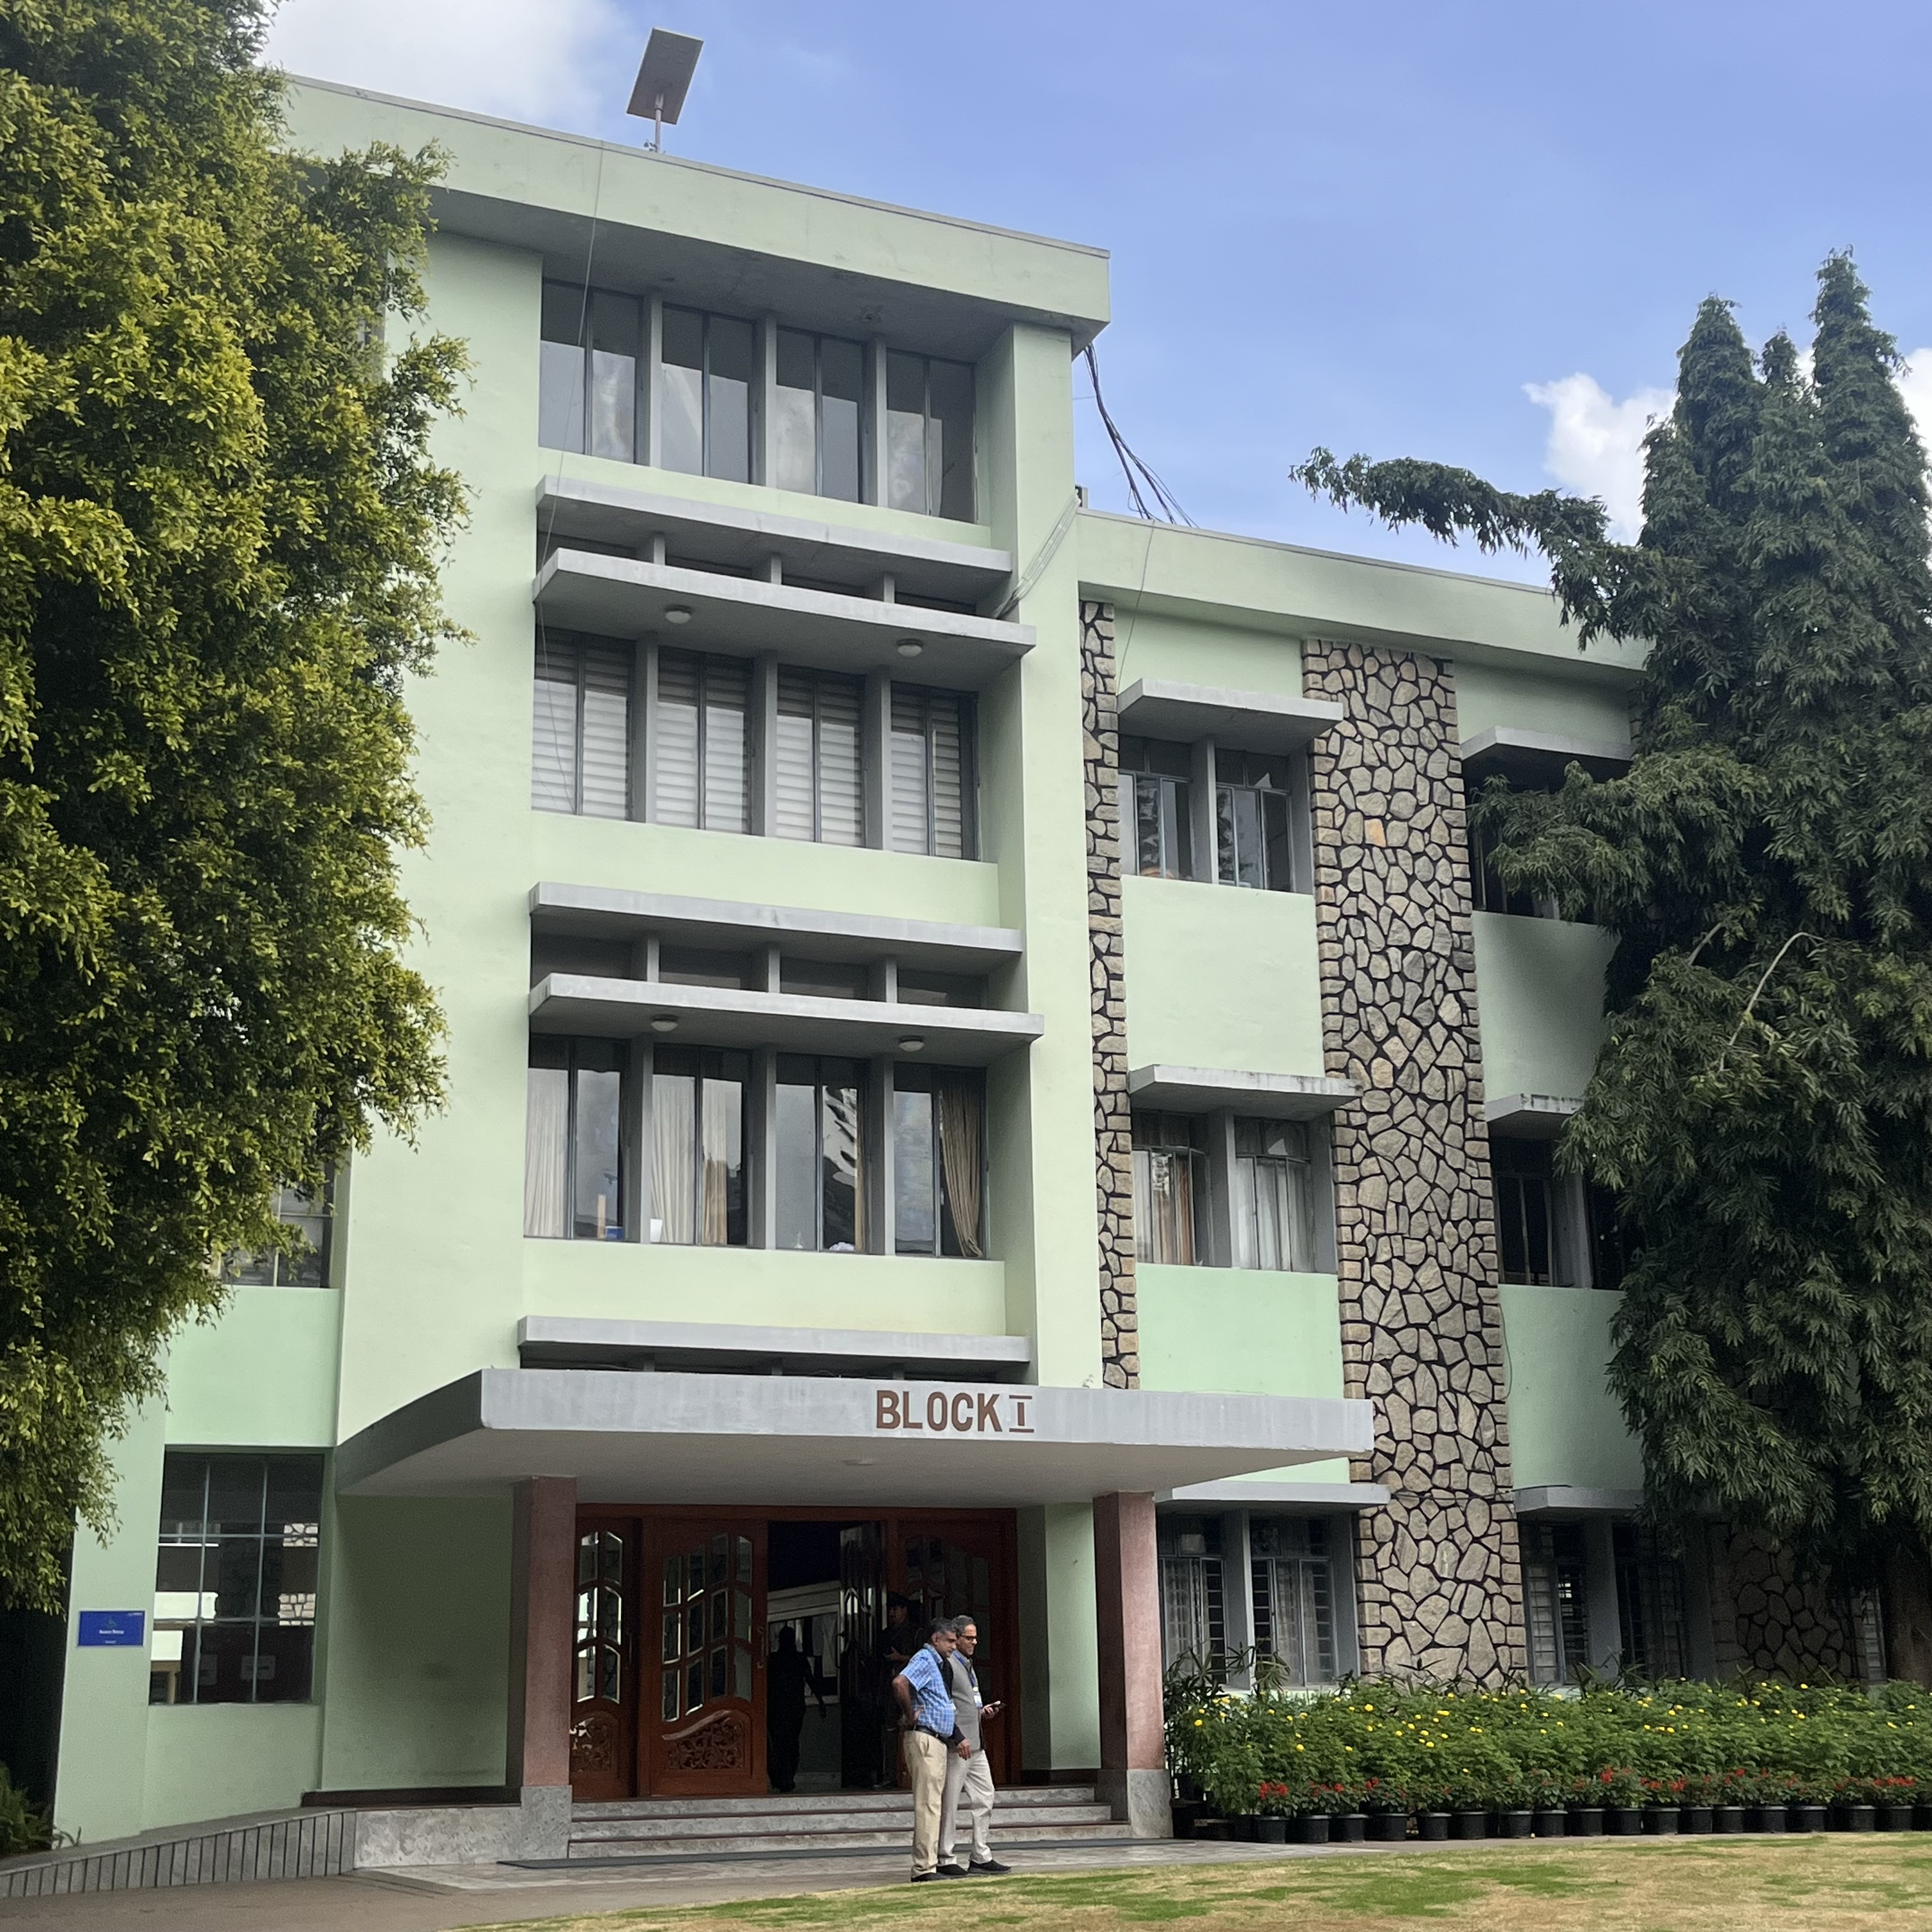Block 1: (389, 51, 1672, 1746)
